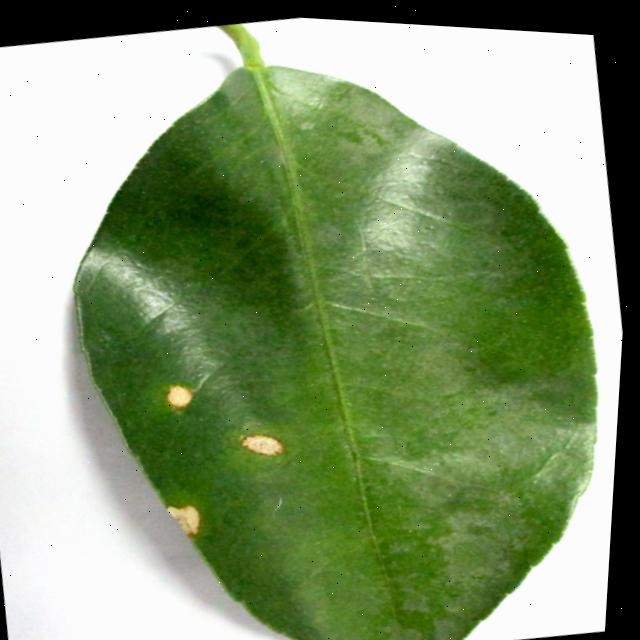antracnose: (75, 23, 596, 640), (167, 505, 200, 537), (242, 434, 283, 455), (167, 385, 192, 407)
